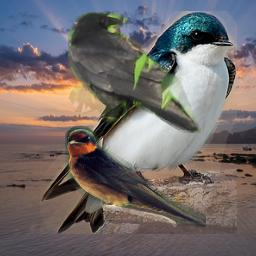Crow: (68, 12, 201, 133)
Swallow: (40, 11, 237, 234), (65, 126, 206, 227)
